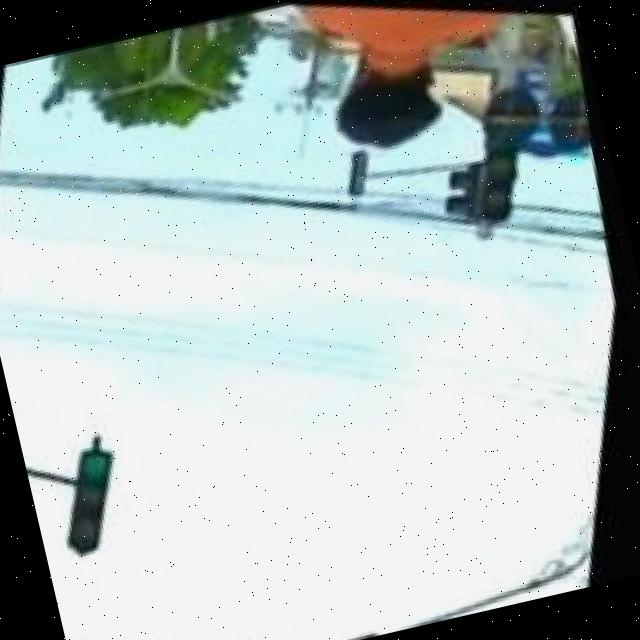green_light: (52, 438, 140, 557)
